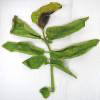Potato leaf late blight: (46, 16, 90, 41), (30, 1, 63, 31), (10, 15, 43, 40)
